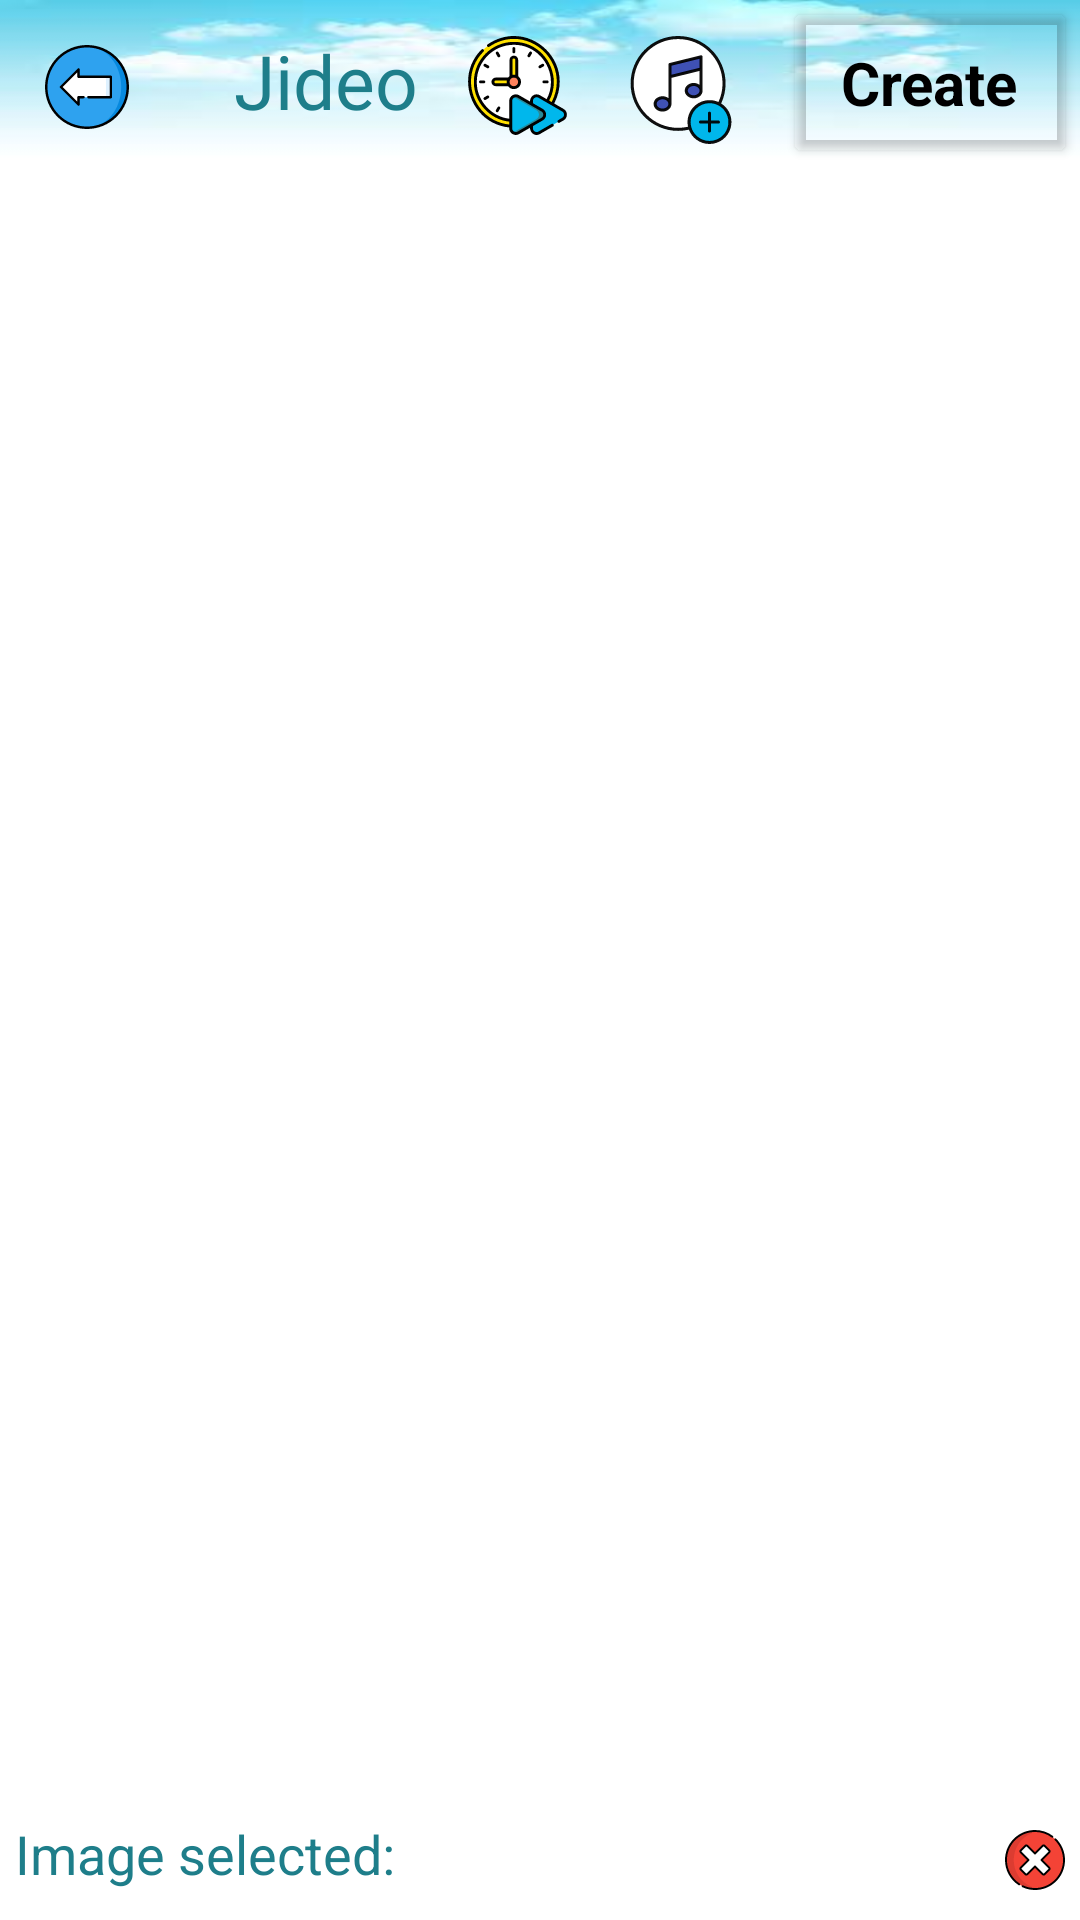

Screen size 1080*1920. Icon name, then its center in pixels as (x,y):
back arrow: (87,87)
cancel: (1035,1860)
music: (681,90)
speed: (517,85)
